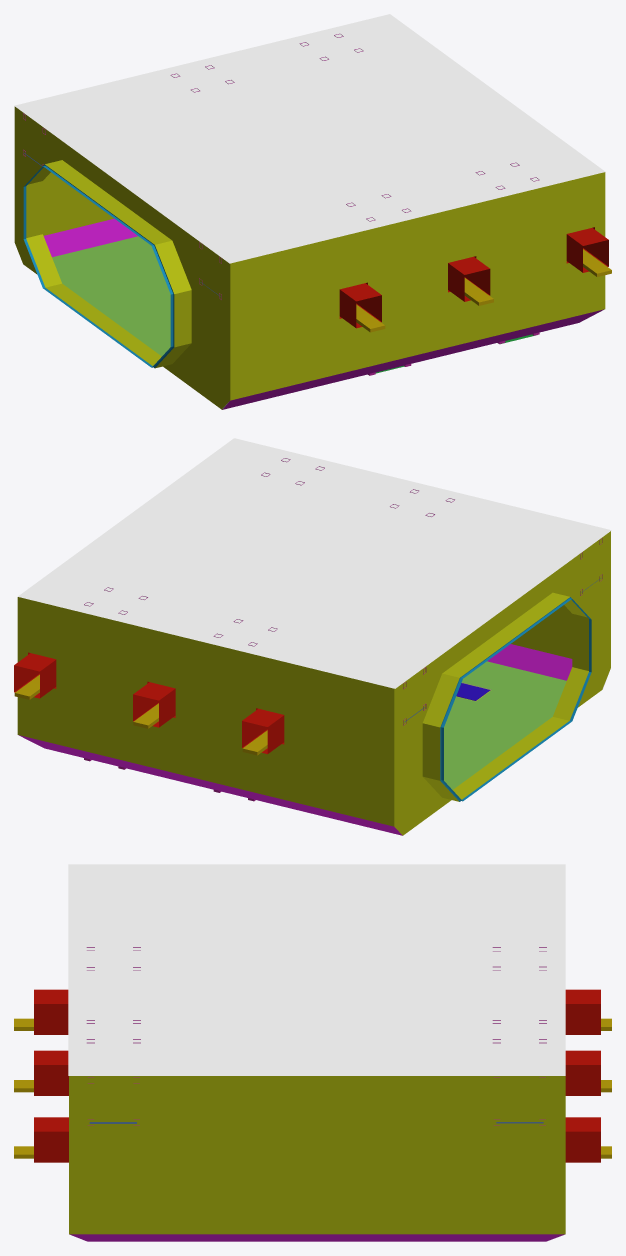
The model's file is Hangar.fbx.
The picture shows the model from 3 angles, top to bottom: view 1: azimuth 30°, elevation 25°; view 2: azimuth 150°, elevation 25°; view 3: azimuth 270°, elevation 25°; orthographic projection. The views are drawn at different scales.
Visible parts, largest first — view 1: Garage_Shell, Garage_Top, Scaffolding_1; view 2: Garage_Shell, Garage_Top, Scaffolding_1; view 3: Garage_Top, Garage_Shell, Scaffolding_1.
Boxes of the visible parts, x1,y1,x2,y2 form: Garage_Shell: (14,106,608,409); Garage_Top: (14,14,605,263); Scaffolding_1: (23,33,611,375); Garage_Shell: (14,531,610,835); Garage_Top: (18,438,611,688); Scaffolding_1: (14,458,602,801); Garage_Top: (68,864,565,1075); Garage_Shell: (34,989,600,1241); Scaffolding_1: (14,947,611,1158).
Size of the model in its own units: 9017 by 3370 by 10181.
